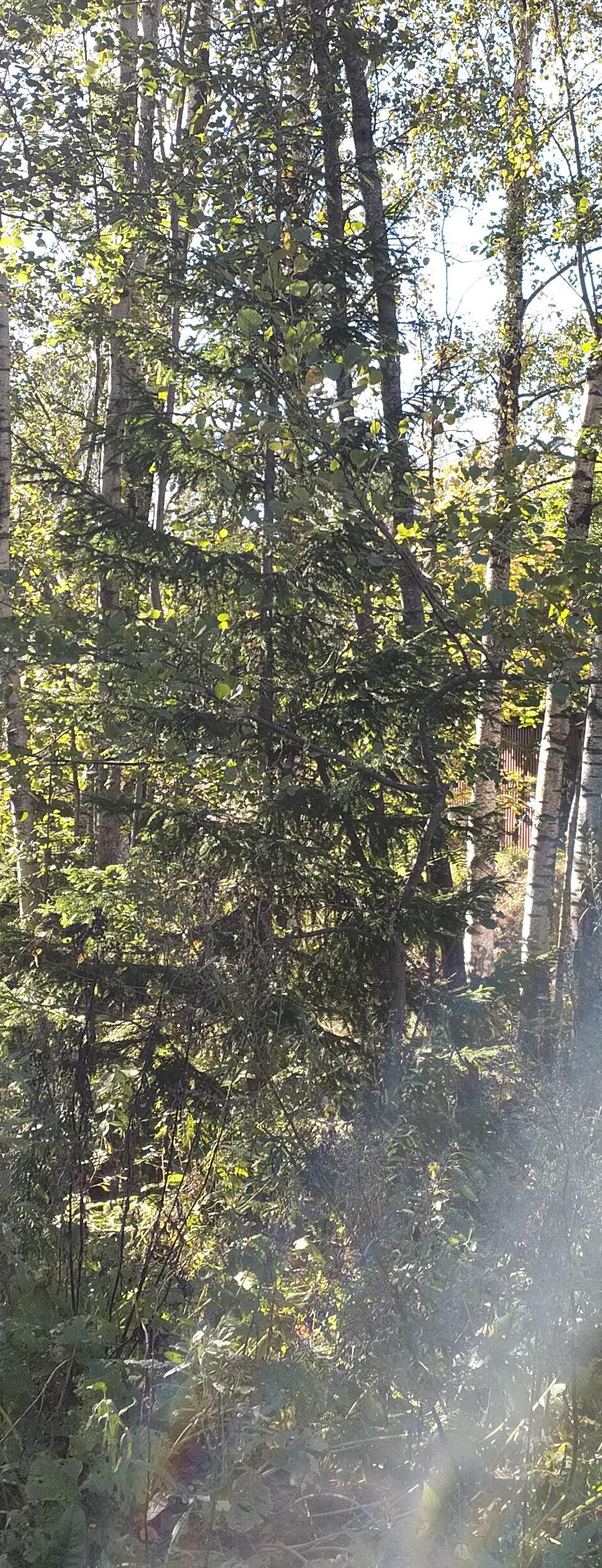Spruce: (136, 85, 418, 1187)
